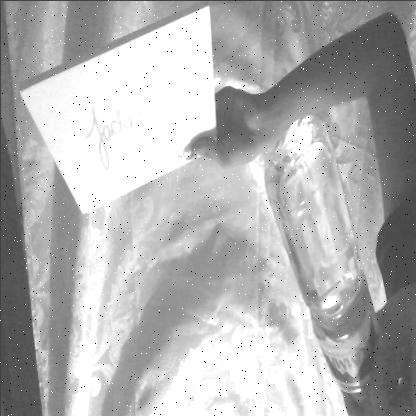Plastic Bottle: (256, 62, 400, 410)
